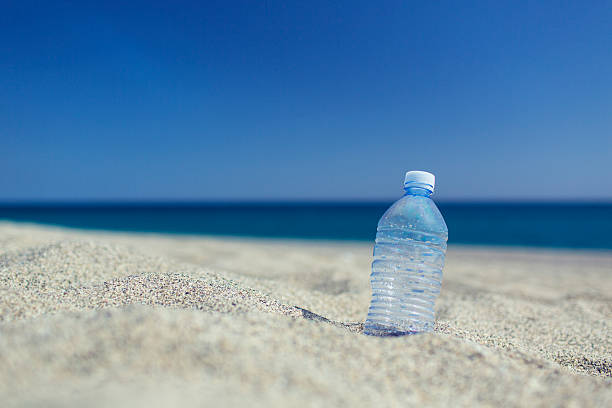HDPE Cap: (405, 173, 436, 183)
HDPE Ring: (404, 182, 434, 190)
PET Bottle: (364, 167, 449, 334)
